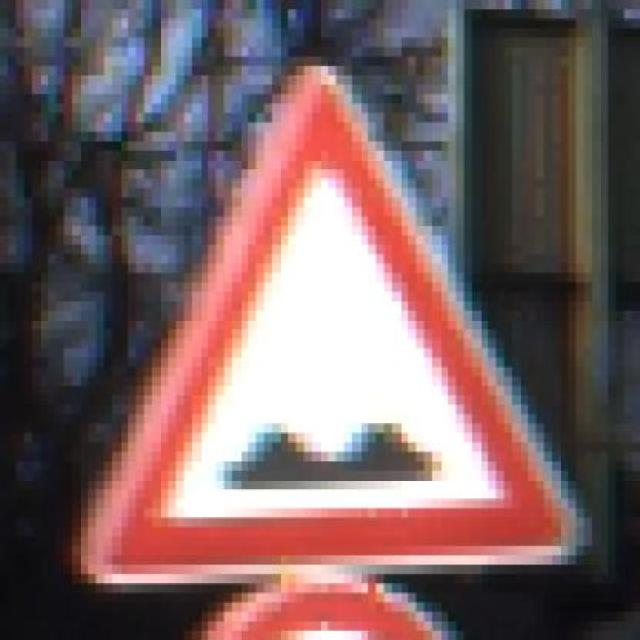Uneven Road: (72, 56, 592, 584)
